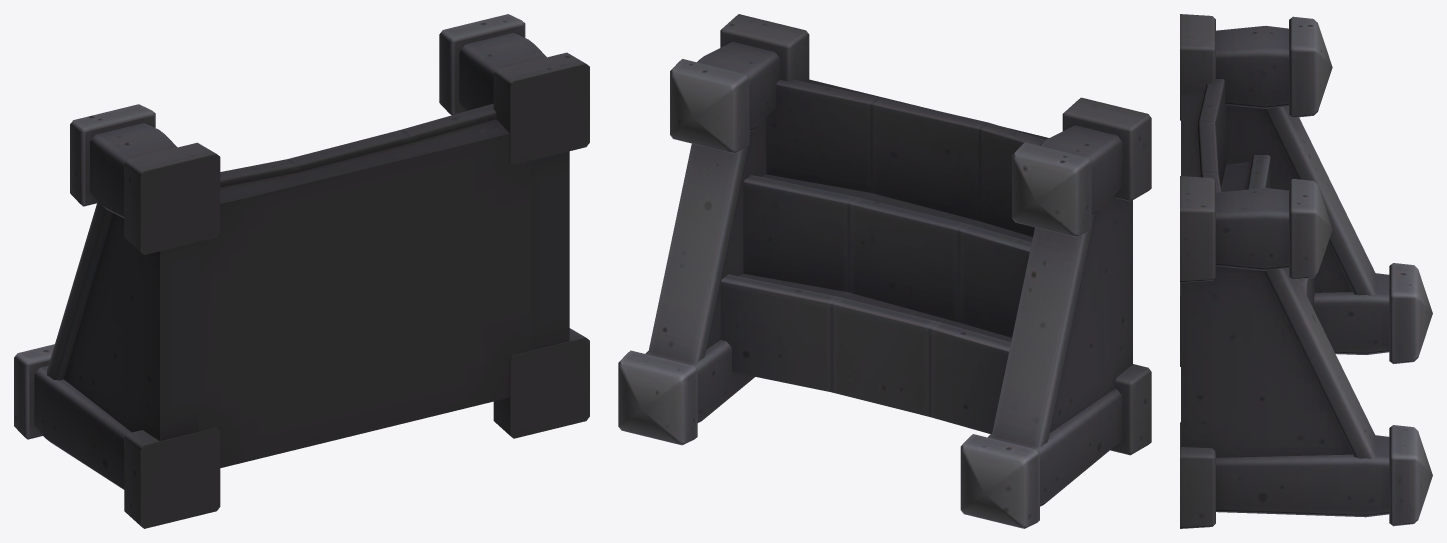
Rendered from HauntedStaircase.fbx.
3 views of the same model, side by side, from view 1: azimuth 30°, elevation 25°; view 2: azimuth 150°, elevation 25°; view 3: azimuth 270°, elevation 25° (orthographic). The views are drawn at different scales.
Visible parts, largest first — view 1: HauntedStaircase; view 2: HauntedStaircase; view 3: HauntedStaircase.
Boxes of the visible parts, x1,y1,x2,y2 form: HauntedStaircase: (14, 14, 589, 528); HauntedStaircase: (618, 14, 1151, 528); HauntedStaircase: (1180, 14, 1432, 528).
Bounding box in the file's own units: 158 × 120 × 85.76.
